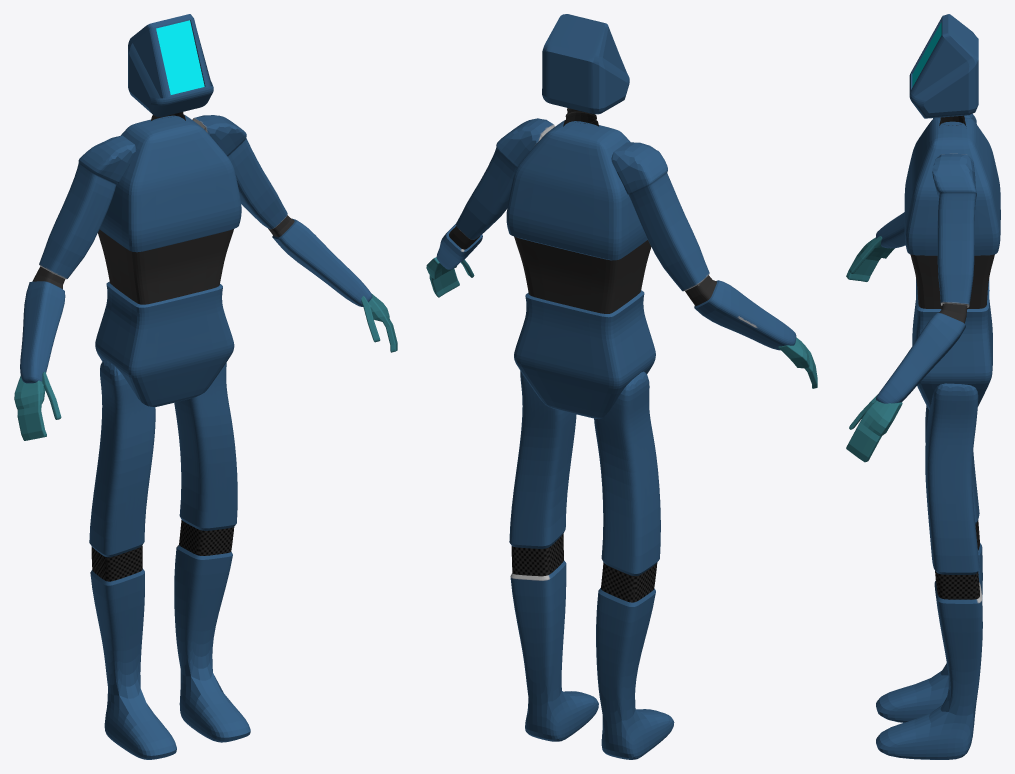
The model's file is y2krobo.glb.
3 renders of one model, left to right at view 1: azimuth 30°, elevation 25°; view 2: azimuth 150°, elevation 25°; view 3: azimuth 270°, elevation 25°, orthographic. The views are drawn at different scales.
Parts seen in each view (by area): view 1: legs and feet, torso, arms, head, hands; view 2: legs and feet, torso, arms, head, hands; view 3: legs and feet, torso, arms, head, hands.
Boxes of the visible parts, x1=… form: legs and feet: x1=89, y1=360, x2=250, y2=759; torso: x1=95, y1=114, x2=241, y2=407; arms: x1=20, y1=115, x2=372, y2=383; head: x1=128, y1=14, x2=213, y2=116; hands: x1=14, y1=293, x2=397, y2=440; legs and feet: x1=509, y1=371, x2=674, y2=759; torso: x1=506, y1=120, x2=655, y2=419; arms: x1=436, y1=118, x2=796, y2=350; head: x1=542, y1=14, x2=629, y2=114; hands: x1=426, y1=257, x2=817, y2=388; legs and feet: x1=876, y1=383, x2=982, y2=759; torso: x1=904, y1=117, x2=1000, y2=409; arms: x1=876, y1=114, x2=976, y2=403; head: x1=909, y1=14, x2=978, y2=118; hands: x1=846, y1=236, x2=902, y2=462.
Bounding box in the file's own units: 0.3535 × 0.639 × 0.1254.
Materials: 1 (1 with a texture image).
